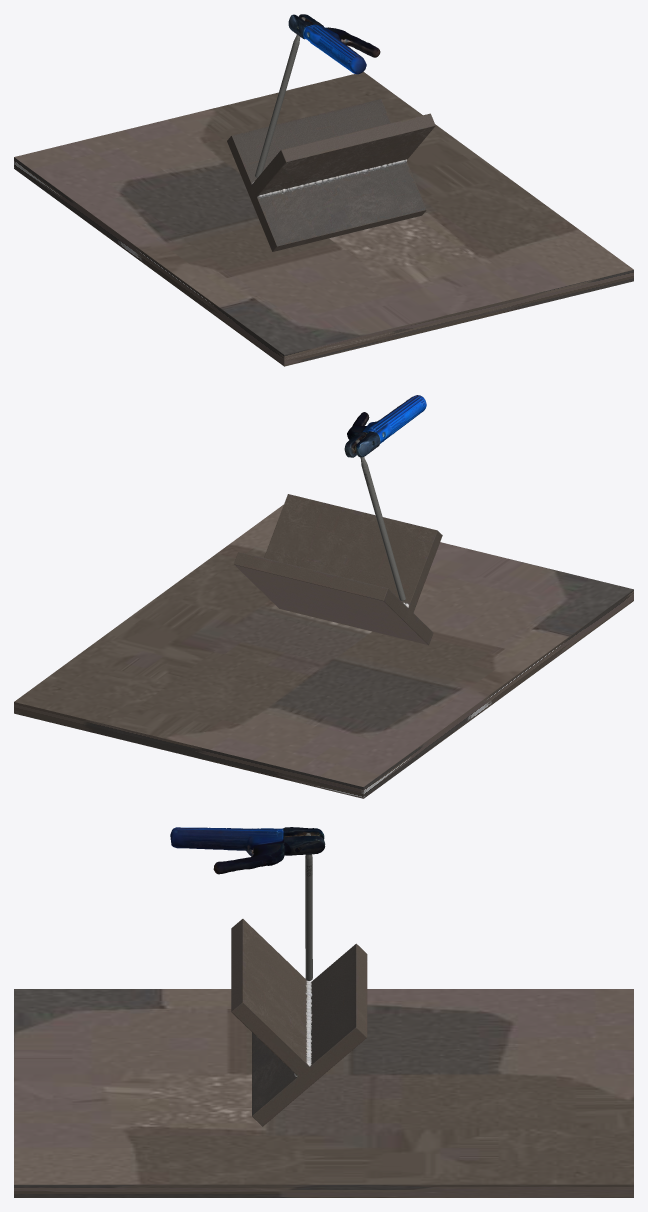
Rendered from speed-slow-anim.glb.
The picture shows the model from 3 angles, top to bottom: view 1: azimuth 30°, elevation 25°; view 2: azimuth 150°, elevation 25°; view 3: azimuth 270°, elevation 25°; orthographic projection. The views are drawn at different scales.
Visible parts, largest first — view 1: Meshy_Welded Steel T-Joint_mesh_node, 3DModel; view 2: Meshy_Welded Steel T-Joint_mesh_node, 3DModel; view 3: Meshy_Welded Steel T-Joint_mesh_node, 3DModel.
Boxes of the visible parts, left/top/right/bottom form: Meshy_Welded Steel T-Joint_mesh_node: left=14, top=72, right=633, bottom=366; 3DModel: left=255, top=14, right=380, bottom=177; Meshy_Welded Steel T-Joint_mesh_node: left=14, top=494, right=633, bottom=798; 3DModel: left=344, top=395, right=426, bottom=600; Meshy_Welded Steel T-Joint_mesh_node: left=14, top=919, right=633, bottom=1197; 3DModel: left=170, top=827, right=325, bottom=980.
Bounding box in the file's own units: 4.44 × 2.7 × 5.95.
Materials: 3 (3 with a texture image).
